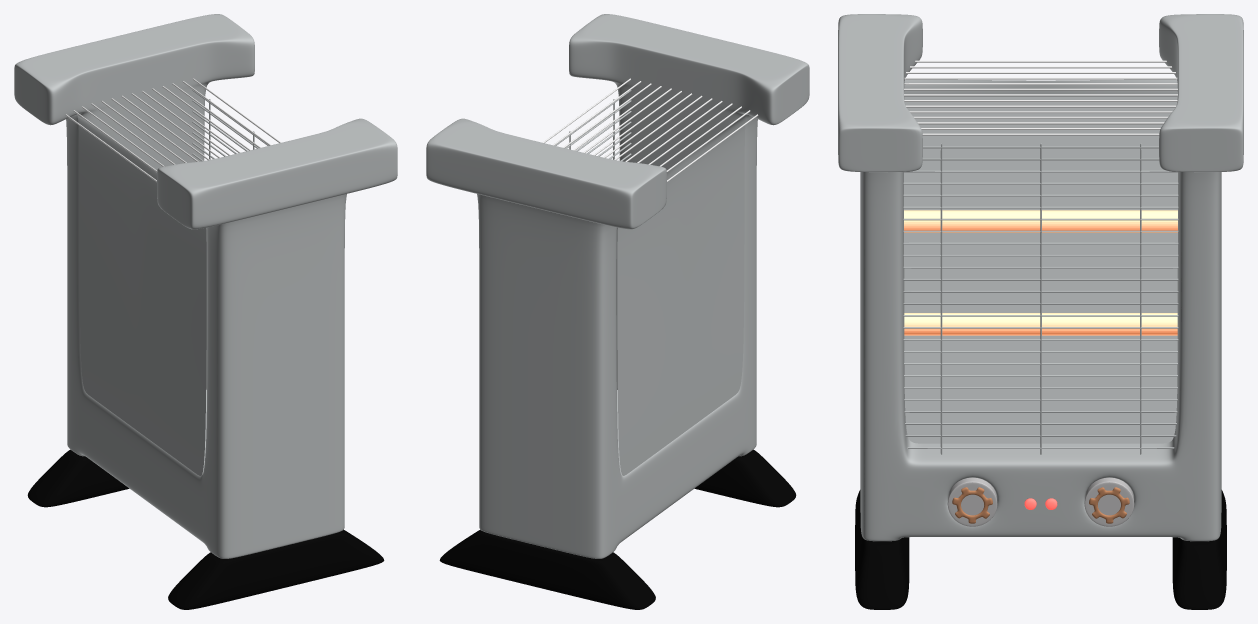
3 views of the same model, side by side, from view 1: azimuth 30°, elevation 25°; view 2: azimuth 150°, elevation 25°; view 3: azimuth 270°, elevation 25° (orthographic). The views are drawn at different scales.
Parts seen in each view (by area): view 1: Cube, Cube.002, Grill2, Grill1; view 2: Cube, Cube.002, Grill2, Grill1; view 3: Cube, Reflector, Grill1, Heat Rod.001, Grill2, Cube.001, Cube.002, GrillV1.
Part boxes in pixels (<box>): Cube: <box>14,14,397,609</box>; Cube.002: <box>77,115,206,475</box>; Grill2: <box>65,78,281,182</box>; Grill1: <box>192,90,268,161</box>; Cube: <box>426,14,809,609</box>; Cube.002: <box>617,115,746,475</box>; Grill2: <box>542,78,758,182</box>; Grill1: <box>555,90,631,161</box>; Cube: <box>838,14,1243,609</box>; Reflector: <box>904,96,1177,443</box>; Grill1: <box>903,146,1178,448</box>; Heat Rod.001: <box>904,210,1177,335</box>; Grill2: <box>904,60,1177,135</box>; Cube.001: <box>947,477,1134,526</box>; Cube.002: <box>904,79,1177,96</box>; GrillV1: <box>940,143,1141,454</box>.
Bounding box in the file's own units: 0.4001 × 0.7906 × 0.6008.
8 materials, 2 textured.
